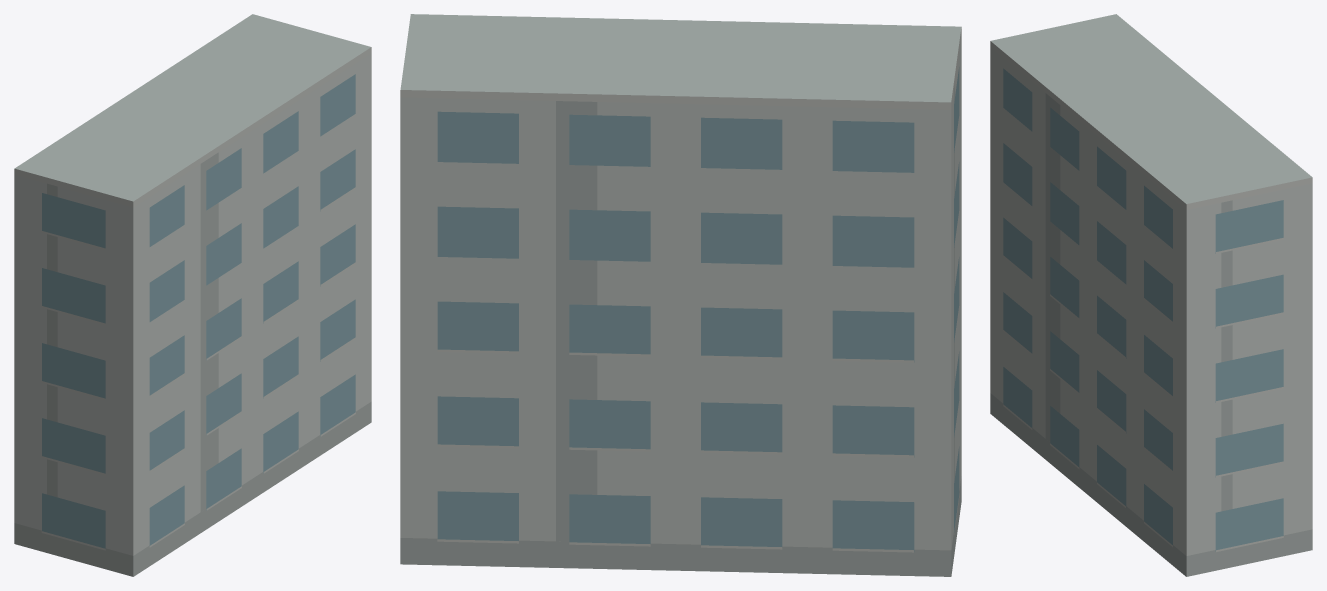
Rendered from survey-upis-32721629.glb.
3 views of the same model, side by side, from view 1: azimuth 30°, elevation 25°; view 2: azimuth 150°, elevation 25°; view 3: azimuth 270°, elevation 25° (orthographic). The views are drawn at different scales.
Visible parts, largest first — view 1: survey-upis-32721629.tmp; view 2: survey-upis-32721629.tmp; view 3: survey-upis-32721629.tmp.
Part boxes in pixels (x1,y1,x2,y2): survey-upis-32721629.tmp: (14,14,371,576); survey-upis-32721629.tmp: (400,14,961,576); survey-upis-32721629.tmp: (990,14,1312,576).
Size of the model in its own units: 16.69 by 15.25 by 11.96.
